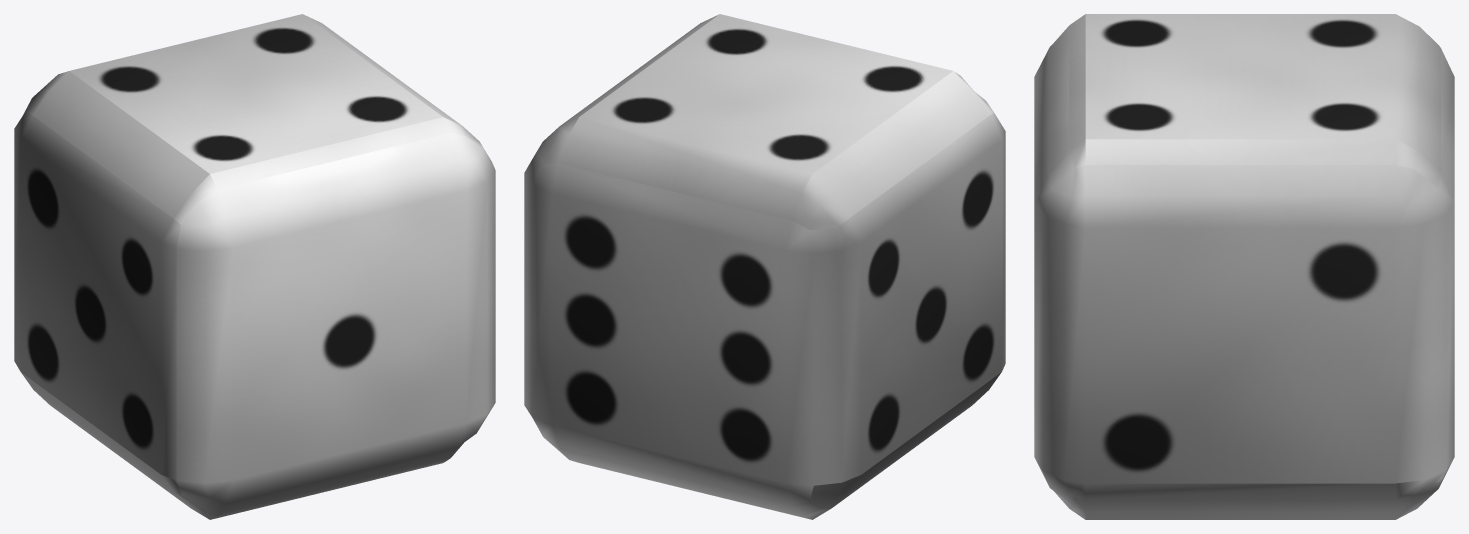
Rendered from 57_Ball_Dice.fbx.
The picture shows the model from 3 angles, left to right: view 1: azimuth 30°, elevation 25°; view 2: azimuth 150°, elevation 25°; view 3: azimuth 270°, elevation 25°; orthographic projection. The views are drawn at different scales.
Visible parts, largest first — view 1: Ball_Dice; view 2: Ball_Dice; view 3: Ball_Dice.
Boxes of the visible parts, <box> form: Ball_Dice: <box>14,14,495,519</box>; Ball_Dice: <box>524,14,1005,519</box>; Ball_Dice: <box>1034,14,1454,519</box>.
Bounding box in the file's own units: 0.3665 × 0.3665 × 0.3665.
